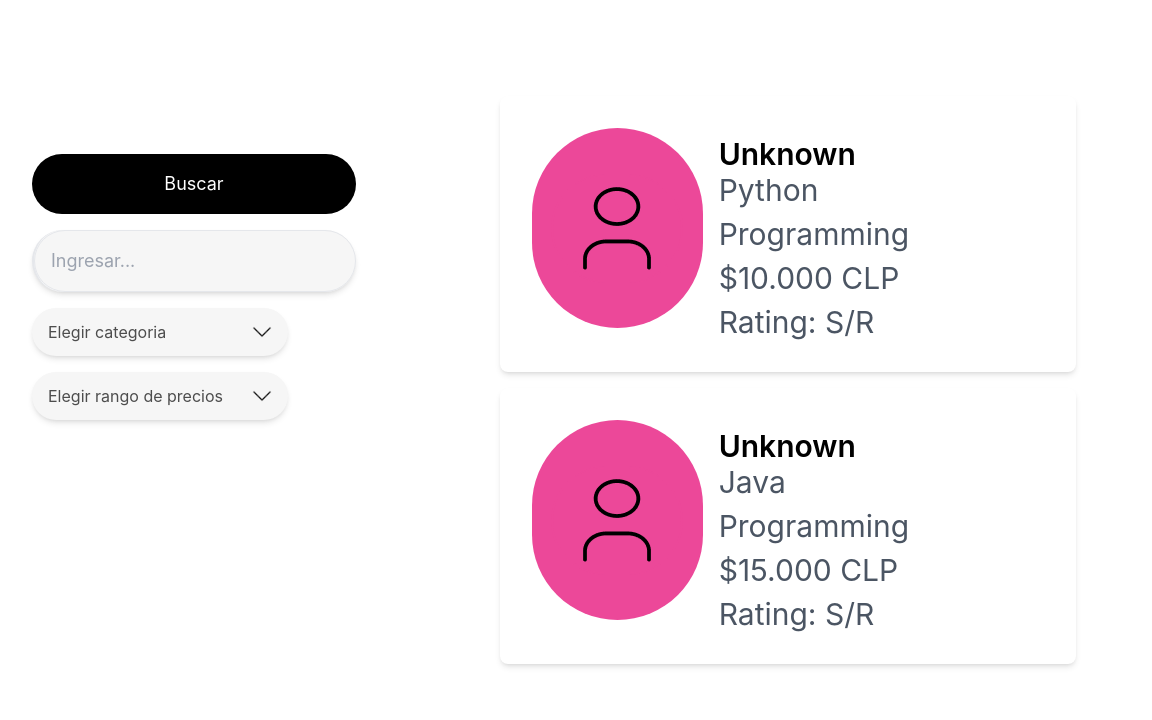
Test: Busqueda Component › it should renders search results correctly
The image size is (1152, 720).
In the search field with placeholder "Ingresar...": [195, 261] box [34, 230, 356, 292], type "java"
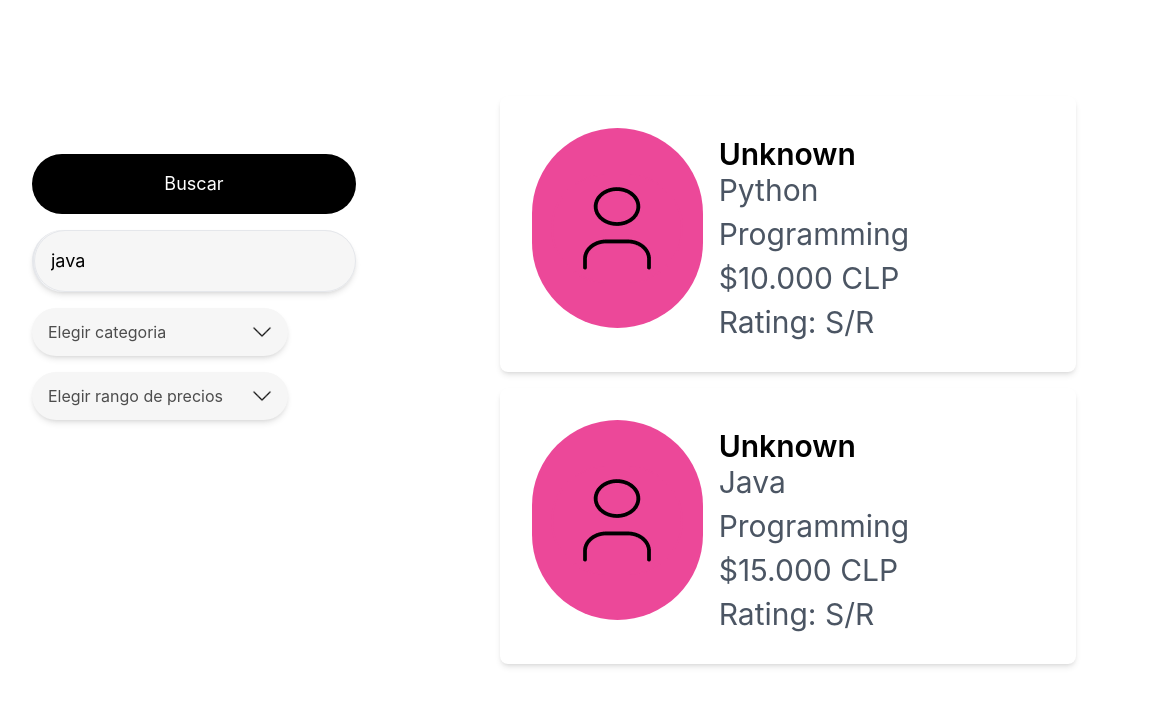
Click the button "Buscar": [194, 184] box [32, 154, 356, 214]
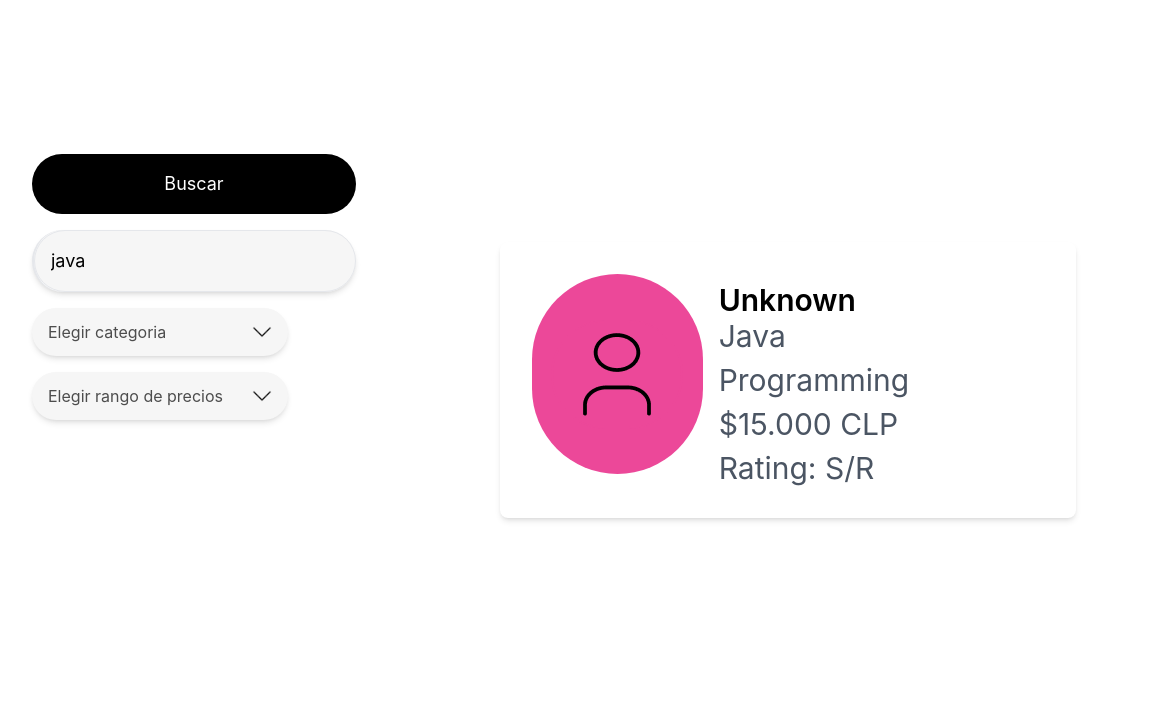
Check: the heading "Java" is shown, box [719, 318, 786, 354]
Check: the heading "Python" is gone
